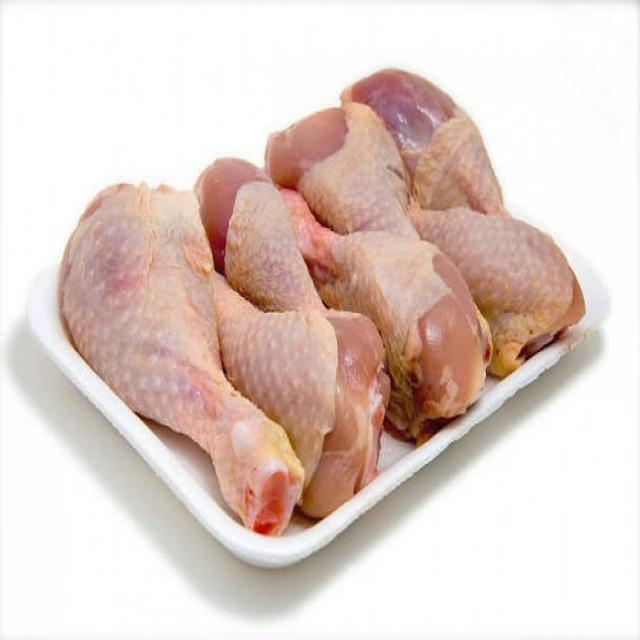chicken: (59, 69, 587, 536), (62, 181, 304, 535), (273, 180, 482, 441), (262, 100, 442, 238)
